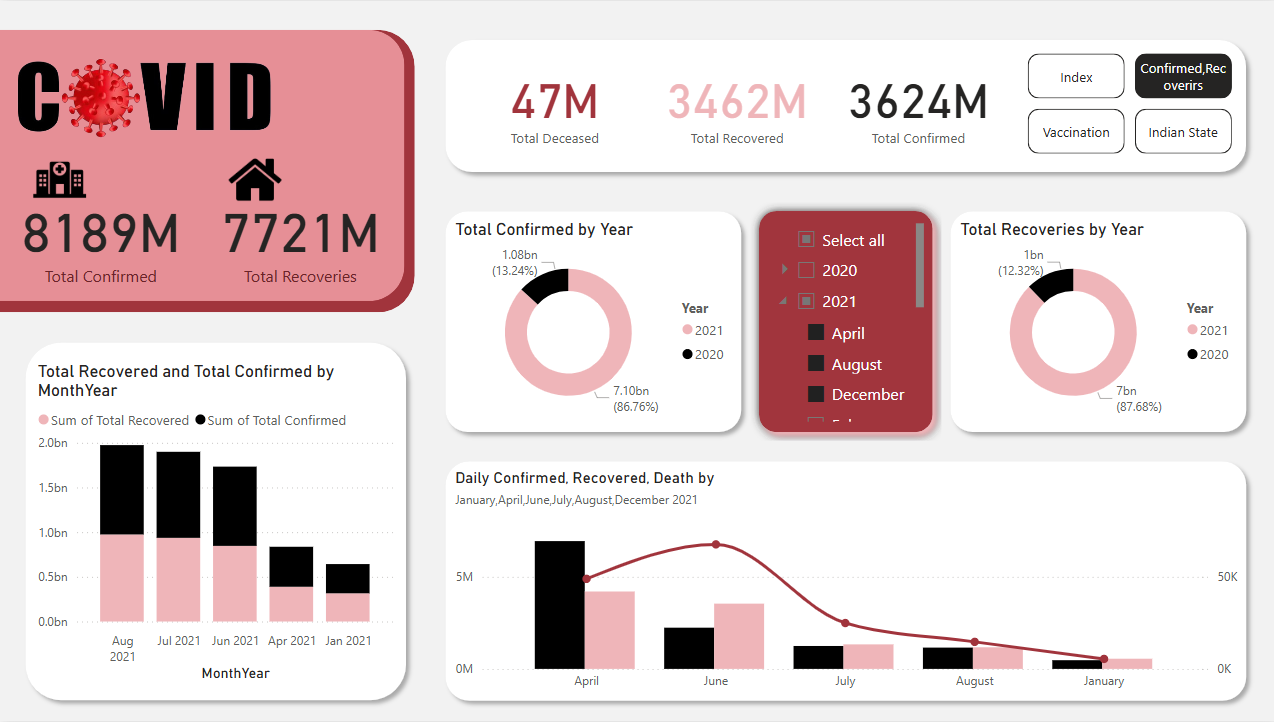

Layout of this report page (visuals, bound fields, positions):
{"tool":"powerbi","page":{"name":"Confirmed,Recoverirs","canvas":[1280,720],"ordinal":1},"visuals":[{"type":"shape","box":[0,28.8,415.7,282.7],"z":0,"group":"g2"},{"type":"shape","box":[437.1,30,818.6,150],"z":0},{"type":"shape","box":[0,28.8,405.5,271.4],"z":1000,"group":"g2"},{"type":"group","id":"g1","title":"Group 1","box":[462.9,42.9,551.4,121.4],"z":1000},{"type":"shape","box":[437.5,201.2,313.8,238.8],"z":1000,"group":"g5"},{"type":"shape","box":[437.5,451.2,818.8,257.5],"z":1000,"group":"g7"},{"type":"image","box":[0,28.6,289.4,150.1],"z":2000,"group":"g2"},{"type":"pageNavigator","box":[1028.6,52.9,204.3,101.4],"z":2000},{"type":"shape","box":[751.2,201.2,191.2,238.8],"z":2000,"group":"g6"},{"type":"group","id":"g2","title":"Group 2","box":[0,28.6,415.7,282.9],"z":3000},{"type":"card","fields":{"Values":["Measures_Table.Total Confirmed"]},"box":[12.8,178.9,179.1,115.1],"z":3000,"group":"g2"},{"type":"shape","box":[17.1,332.9,398.6,375.7],"z":3000,"group":"g3"},{"type":"lineClusteredColumnComboChart","title":"Daily Confirmed, Recovered, Death by","fields":{"Category":["DateTable.Month"],"Y":["Sum(case_time_series - case_time_series.Daily Confirmed)","Sum(case_time_series - case_time_series.Daily Recovered)"],"Y2":["Sum(case_time_series - case_time_series.Daily Deceased)"]},"box":[451.3,467.4,792.5,230],"z":3000,"group":"g7"},{"type":"card","fields":{"Values":["Measures_Table.Total Recoveries"]},"box":[203.4,178.9,195.7,115.1],"z":4000,"group":"g2"},{"type":"slicer","fields":{"Values":["DateTable.Year","DateTable.Month"]},"box":[762.8,217.1,167.1,208.6],"z":4000,"group":"g6"},{"type":"donutChart","fields":{"Y":["Measures_Table.Total Confirmed"],"Category":["DateTable.Year"]},"box":[451.3,217.4,287.5,208.8],"z":4000,"group":"g5"},{"type":"group","id":"g3","title":"Group 3","box":[17.1,332.9,398.6,375.7],"z":4000},{"type":"image","box":[17.5,147.2,86.2,62.9],"z":5000,"group":"g2"},{"type":"group","id":"g4","title":"Group 4","box":[942.5,201.2,313.8,238.8],"z":5000},{"type":"shape","box":[942.5,201.2,313.8,238.8],"z":5000,"group":"g4"},{"type":"image","box":[222.2,147.2,67.2,62.9],"z":6000,"group":"g2"},{"type":"group","id":"g5","title":"Group 5","box":[437.5,201.2,313.8,238.8],"z":6000},{"type":"group","id":"g6","title":"Group 6","box":[751.2,201.2,191.2,238.8],"z":7000},{"type":"group","id":"g7","title":"Group 7","box":[437.5,451.2,818.8,257.5],"z":8000},{"type":"donutChart","fields":{"Category":["DateTable.Year"],"Y":["Measures_Table.Total Recoveries"]},"box":[956.3,217.4,287.5,208.8],"z":12000,"group":"g4"},{"type":"columnChart","title":"Total Recovered and Total Confirmed by MonthYear","fields":{"Category":["DateTable.MonthYear"],"Y":["Sum(case_time_series - case_time_series.Total Recovered)","Sum(case_time_series - case_time_series.Total Confirmed)"]},"box":[32.8,360.4,366.2,325.3],"z":15000,"group":"g3"},{"type":"card","fields":{"Values":["Sum(case_time_series - case_time_series.Total Confirmed)"]},"box":[827.2,42.9,187.1,121.4],"z":16000,"group":"g1"},{"type":"card","fields":{"Values":["Sum(case_time_series - case_time_series.Total Deceased)"]},"box":[462.9,42.9,187.1,121.4],"z":17000,"group":"g1"},{"type":"card","fields":{"Values":["Sum(case_time_series - case_time_series.Total Recovered)"]},"box":[650,42.9,177.1,121.4],"z":18000,"group":"g1"}]}

Visuals, with their boxes in screenshot pixels (x1, y1, x2, y2), scaled from the page's 1280x720 canvas onto the 1274x722 screenshot:
shape: <region>0, 29, 414, 312</region>
shape: <region>435, 30, 1250, 180</region>
shape: <region>0, 29, 404, 301</region>
"Group 1" group: <region>461, 43, 1010, 165</region>
shape: <region>435, 202, 748, 441</region>
shape: <region>435, 452, 1250, 711</region>
image: <region>0, 29, 288, 179</region>
pageNavigator: <region>1024, 53, 1227, 155</region>
shape: <region>748, 202, 938, 441</region>
"Group 2" group: <region>0, 29, 414, 312</region>
card - Measures_Table.Total Confirmed: <region>13, 179, 191, 295</region>
shape: <region>17, 334, 414, 711</region>
"Daily Confirmed, Recovered, Death by" lineClusteredColumnComboChart: <region>449, 469, 1238, 699</region>
card - Measures_Table.Total Recoveries: <region>202, 179, 397, 295</region>
slicer - DateTable.Year x DateTable.Month: <region>759, 218, 926, 427</region>
donutChart - Measures_Table.Total Confirmed x DateTable.Year: <region>449, 218, 735, 427</region>
"Group 3" group: <region>17, 334, 414, 711</region>
image: <region>17, 148, 103, 211</region>
"Group 4" group: <region>938, 202, 1250, 441</region>
shape: <region>938, 202, 1250, 441</region>
image: <region>221, 148, 288, 211</region>
"Group 5" group: <region>435, 202, 748, 441</region>
"Group 6" group: <region>748, 202, 938, 441</region>
"Group 7" group: <region>435, 452, 1250, 711</region>
donutChart - DateTable.Year x Measures_Table.Total Recoveries: <region>952, 218, 1238, 427</region>
"Total Recovered and Total Confirmed by MonthYear" columnChart: <region>33, 361, 397, 688</region>
card - Sum(case_time_series - case_time_series.Total Confirmed): <region>823, 43, 1010, 165</region>
card - Sum(case_time_series - case_time_series.Total Deceased): <region>461, 43, 647, 165</region>
card - Sum(case_time_series - case_time_series.Total Recovered): <region>647, 43, 823, 165</region>
